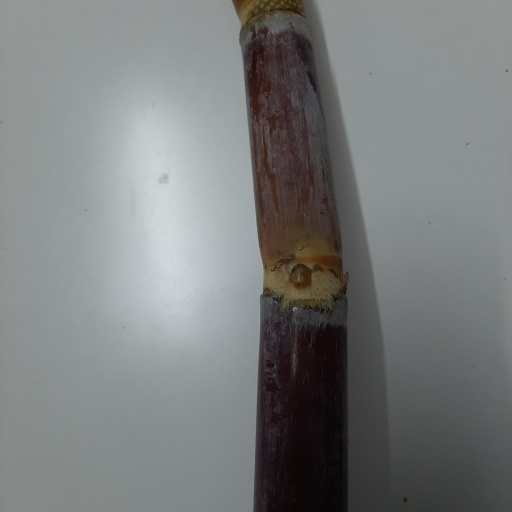Bud: (287, 265, 312, 290)
